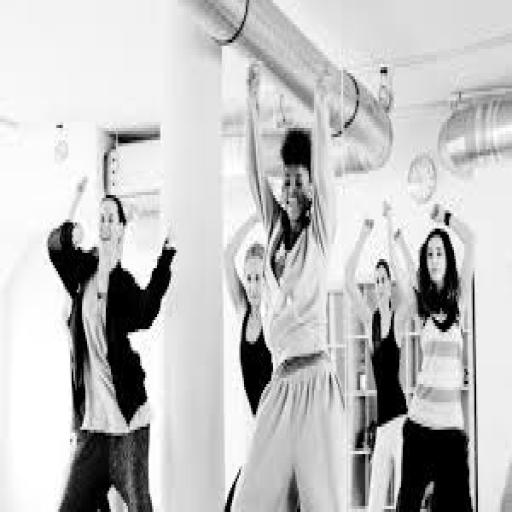dancing: (225, 58, 350, 509), (44, 180, 180, 509), (384, 198, 476, 509)
